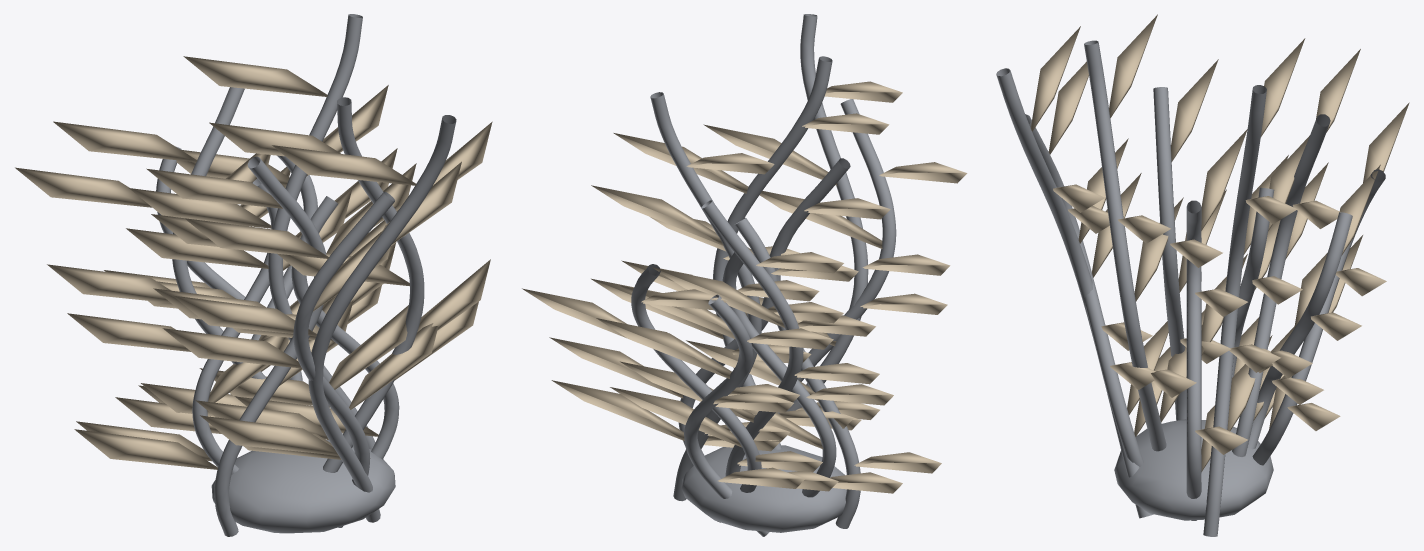
Rendered from bio_aquatic_frond_16_far.glb.
3 renders of one model, left to right at view 1: azimuth 30°, elevation 25°; view 2: azimuth 150°, elevation 25°; view 3: azimuth 270°, elevation 25°, orthographic. The views are drawn at different scales.
Visible parts, largest first — view 1: Ruffled aquatic blade.010, Holdfast, Ruffled aquatic blade.035, Ruffled aquatic blade.040, Ruffled aquatic blade.045, Ruffled aquatic blade.020, Ruffled aquatic blade.025, Ruffled aquatic blade.005, Flexible stipe.002, Flexible stipe.007, Flexible stipe.004, Flexible stipe.005 (+9 smaller); view 2: Ruffled aquatic blade.030, Holdfast, Ruffled aquatic blade.005, Ruffled aquatic blade.015, Ruffled aquatic blade.045, Ruffled aquatic blade.020, Ruffled aquatic blade.010, Ruffled aquatic blade.040, Ruffled aquatic blade.025, Ruffled aquatic blade.035, Flexible stipe.002, Flexible stipe.001 (+9 smaller); view 3: Holdfast, Flexible stipe.005, Flexible stipe.008, Ruffled aquatic blade.025, Ruffled aquatic blade.040, Ruffled aquatic blade.010, Ruffled aquatic blade.035, Flexible stipe.002, Flexible stipe, Flexible stipe.004, Ruffled aquatic blade, Flexible stipe.001 (+9 smaller).
Boxes of the visible parts, left/top/right/bottom form: Ruffled aquatic blade.010: left=173, top=145, right=461, bottom=455; Holdfast: left=211, top=440, right=395, bottom=533; Ruffled aquatic blade.035: left=162, top=218, right=438, bottom=459; Ruffled aquatic blade.040: left=126, top=56, right=396, bottom=407; Ruffled aquatic blade.045: left=67, top=188, right=352, bottom=461; Ruffled aquatic blade.020: left=74, top=163, right=416, bottom=469; Ruffled aquatic blade.025: left=195, top=121, right=492, bottom=439; Ruffled aquatic blade.005: left=47, top=121, right=299, bottom=416; Flexible stipe.002: left=308, top=115, right=456, bottom=522; Flexible stipe.007: left=293, top=191, right=394, bottom=527; Flexible stipe.004: left=214, top=156, right=326, bottom=536; Flexible stipe.005: left=323, top=97, right=424, bottom=472; Ruffled aquatic blade.030: left=551, top=318, right=833, bottom=488; Holdfast: left=681, top=445, right=846, bottom=532; Ruffled aquatic blade.005: left=620, top=252, right=879, bottom=472; Ruffled aquatic blade.015: left=522, top=288, right=838, bottom=491; Ruffled aquatic blade.045: left=620, top=280, right=902, bottom=493; Ruffled aquatic blade.020: left=650, top=198, right=941, bottom=473; Ruffled aquatic blade.010: left=703, top=81, right=950, bottom=419; Ruffled aquatic blade.040: left=591, top=153, right=843, bottom=442; Ruffled aquatic blade.025: left=591, top=113, right=889, bottom=428; Ruffled aquatic blade.035: left=714, top=162, right=967, bottom=430; Flexible stipe.002: left=786, top=14, right=868, bottom=411; Flexible stipe.001: left=701, top=200, right=803, bottom=476; Holdfast: left=1114, top=419, right=1273, bottom=520; Flexible stipe.005: left=1084, top=40, right=1166, bottom=451; Flexible stipe.008: left=1203, top=85, right=1266, bottom=536; Ruffled aquatic blade.025: left=1109, top=14, right=1202, bottom=422; Ruffled aquatic blade.040: left=1227, top=38, right=1305, bottom=431; Ruffled aquatic blade.010: left=1030, top=26, right=1168, bottom=414; Ruffled aquatic blade.035: left=1048, top=61, right=1183, bottom=436; Flexible stipe.002: left=996, top=68, right=1153, bottom=518; Flexible stipe: left=1186, top=200, right=1201, bottom=520; Flexible stipe.004: left=1153, top=87, right=1186, bottom=420; Ruffled aquatic blade: left=1195, top=129, right=1247, bottom=471; Flexible stipe.001: left=1232, top=114, right=1330, bottom=456.
Size of the model in its own units: 1.79 by 1.89 by 1.56.
